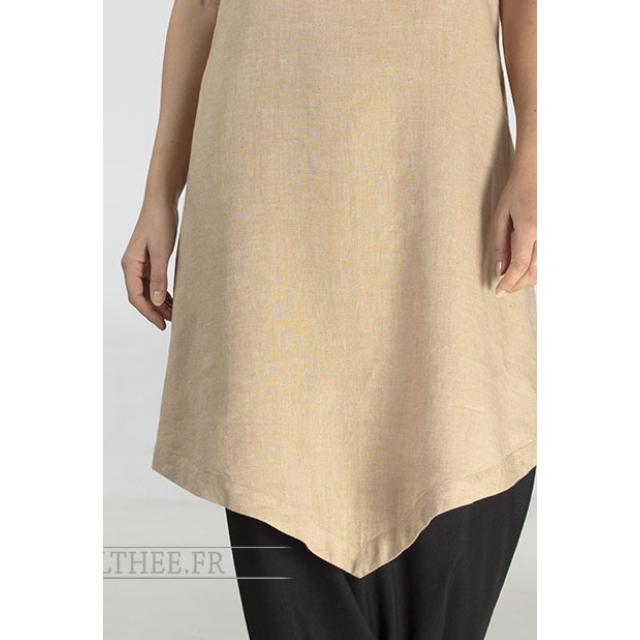linen: (202, 1, 526, 496)
